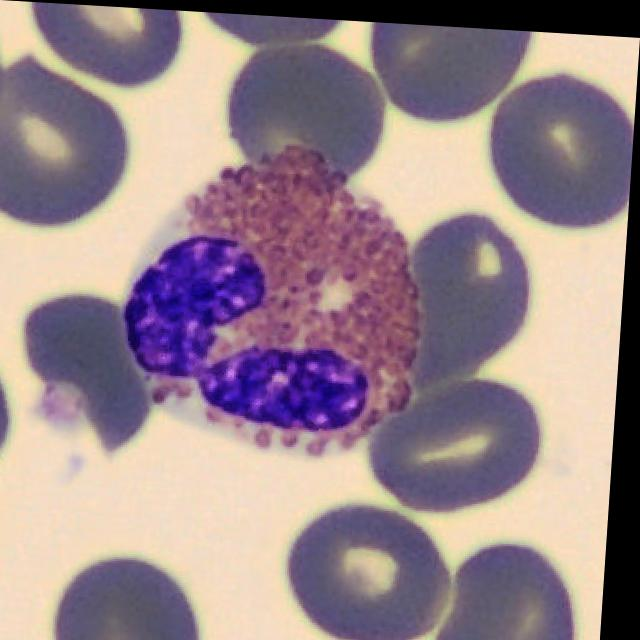Eosinofilo: (130, 144, 425, 452)
